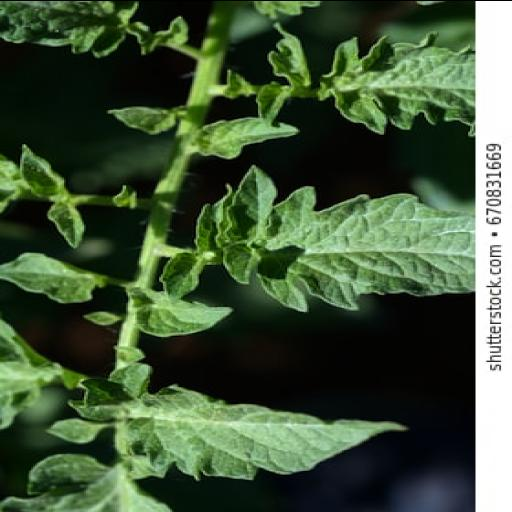Healthy: (210, 162, 476, 318), (119, 378, 415, 478), (0, 244, 115, 306), (120, 284, 238, 340), (183, 112, 305, 160)
